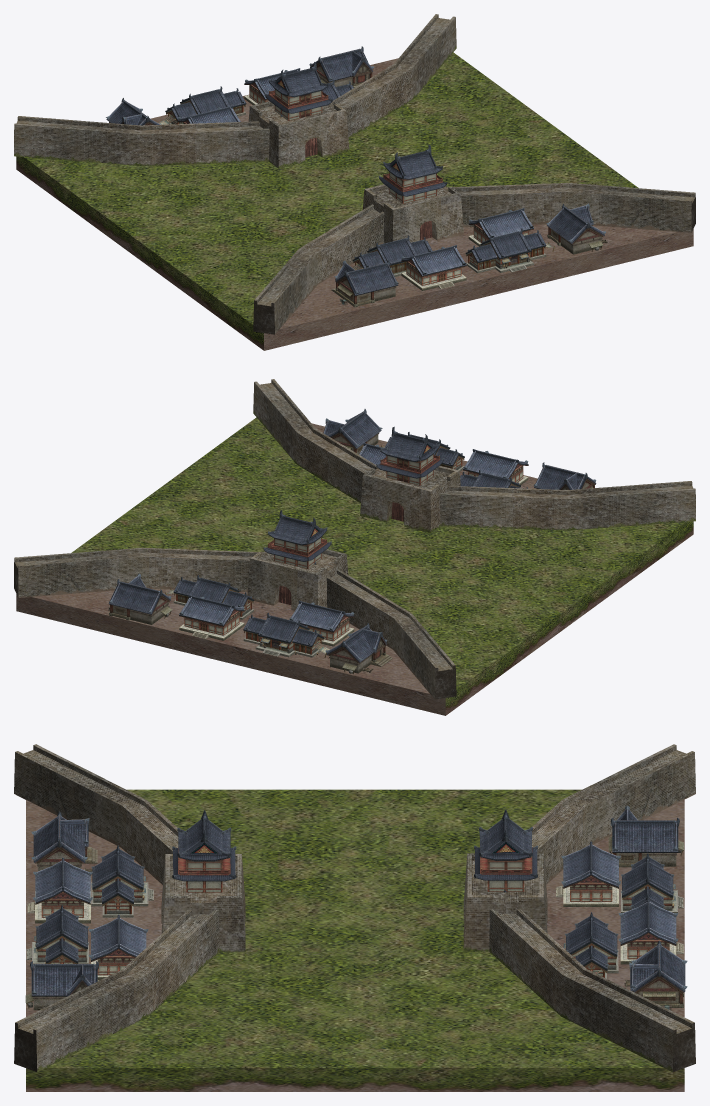
Rendered from map010.FBX.
The picture shows the model from 3 angles, top to bottom: view 1: azimuth 30°, elevation 25°; view 2: azimuth 150°, elevation 25°; view 3: azimuth 270°, elevation 25°; orthographic projection. The views are drawn at different scales.
Visible parts, largest first — view 1: map010, Box062, house240, house249, house245, house316, house251; view 2: map010, Box062, house240, house249, house245, house316, house251; view 3: map010, Box062, house245, house240, house249, house251, house316.
Boxes of the visible parts, x1,y1,x2,y2 form: map010: [16, 52, 693, 350]; Box062: [14, 14, 695, 334]; house240: [106, 46, 607, 307]; house249: [157, 79, 554, 276]; house245: [177, 68, 533, 290]; house316: [264, 62, 332, 120]; house251: [379, 144, 447, 203]; map010: [16, 417, 693, 715]; Box062: [14, 379, 695, 699]; house240: [108, 409, 596, 674]; house249: [165, 432, 527, 657]; house245: [179, 443, 528, 646]; house316: [263, 510, 331, 568]; house251: [376, 426, 444, 485]; map010: [26, 789, 684, 1091]; Box062: [14, 744, 695, 1072]; house245: [27, 841, 683, 980]; house240: [25, 805, 687, 1010]; house249: [26, 845, 683, 978]; house251: [172, 810, 236, 892]; house316: [474, 809, 537, 891].
Bounding box in the file's own units: 103 × 22.42 × 104.
